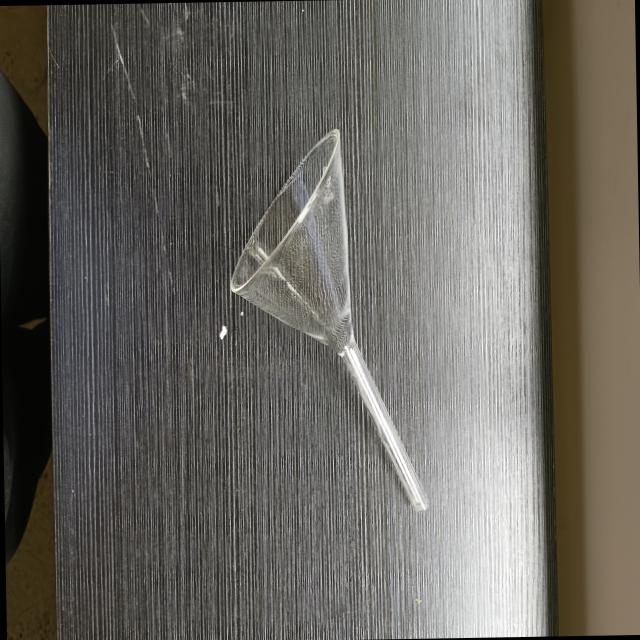funnel: (215, 115, 450, 532)
